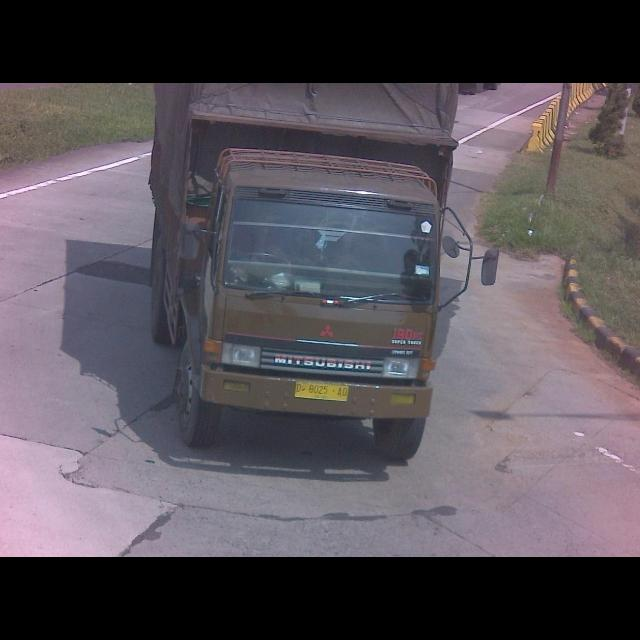plate: (294, 378, 350, 402)
